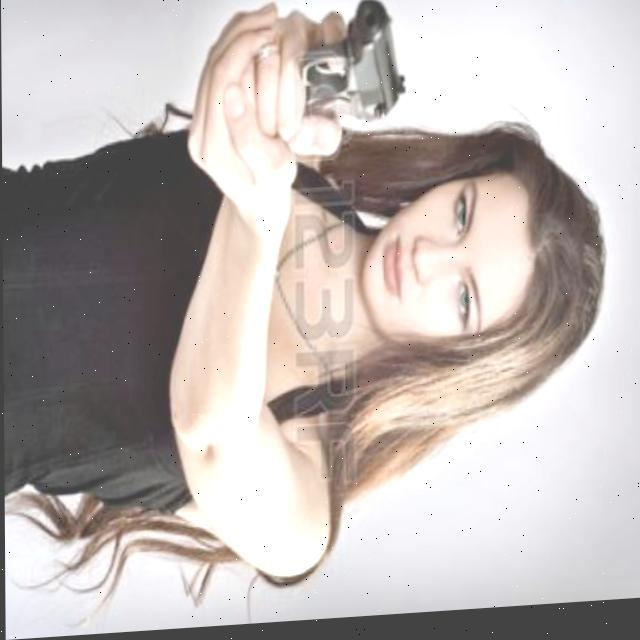pistol: (199, 0, 416, 181)
